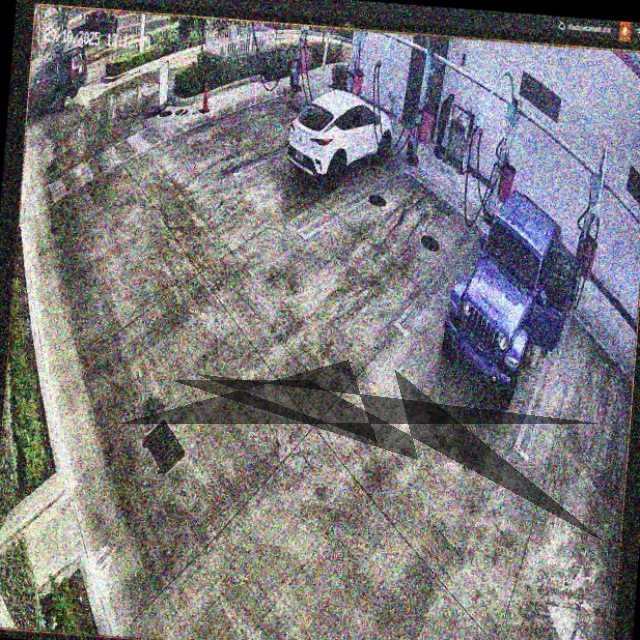Car: (439, 186, 583, 408), (289, 81, 395, 193)
